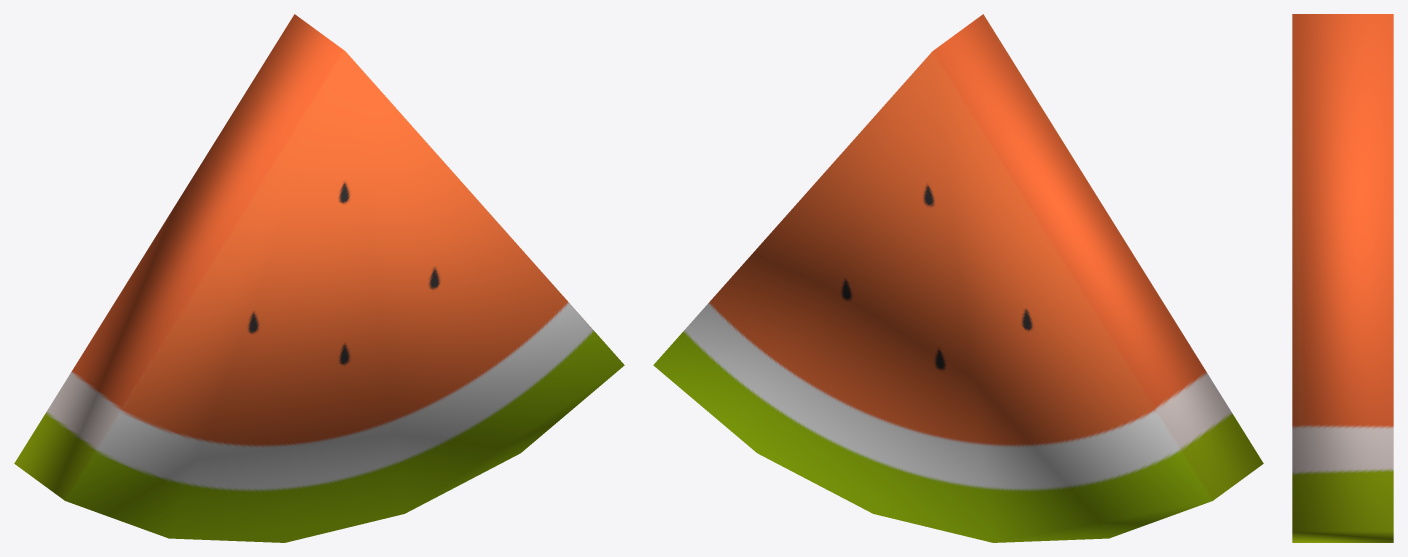
The model's file is watermelon.gltf.
The picture shows the model from 3 angles, left to right: view 1: azimuth 30°, elevation 25°; view 2: azimuth 150°, elevation 25°; view 3: azimuth 270°, elevation 25°; orthographic projection.
Parts seen in each view (by area): view 1: watermelon; view 2: watermelon; view 3: watermelon.
Part boxes in pixels (box(x1,y1,x2,y2)): watermelon: box(14, 14, 624, 542); watermelon: box(653, 14, 1263, 542); watermelon: box(1292, 14, 1393, 542).
Bounding box in the file's own units: 1.17 × 0.9523 × 0.1842.
1 material, 1 textured.
